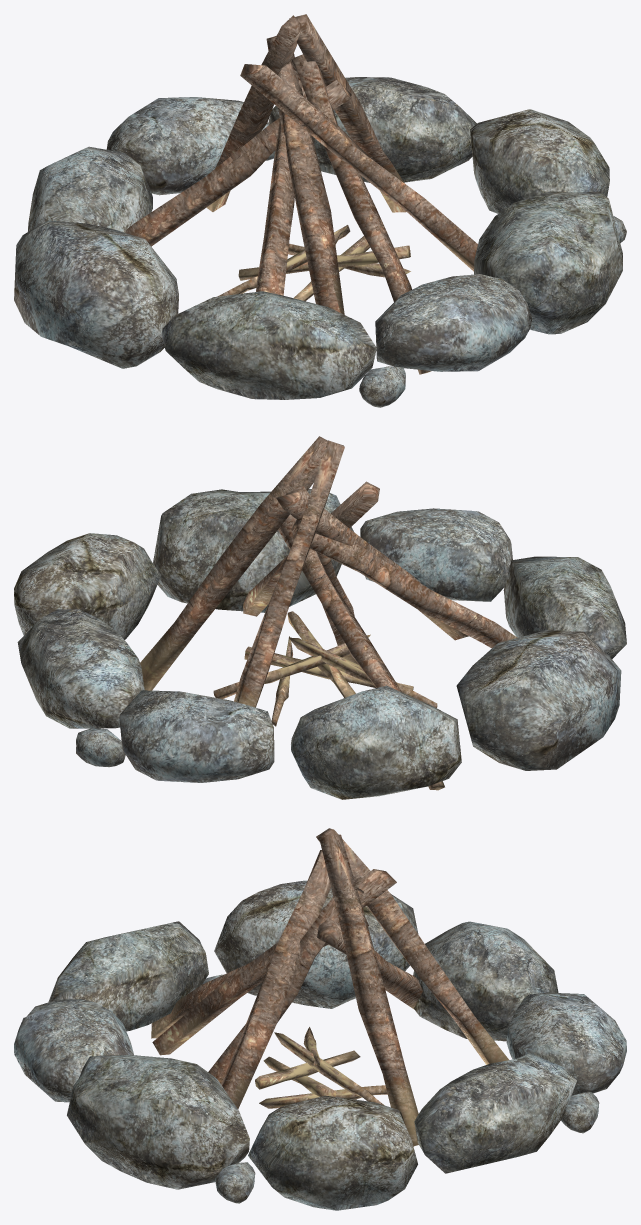
Rendered from SM_Campfire.FBX.
3 views of the same model, one above another, from view 1: azimuth 30°, elevation 25°; view 2: azimuth 150°, elevation 25°; view 3: azimuth 270°, elevation 25° (orthographic). The views are drawn at different scales.
Parts seen in each view (by area): view 1: SM_Campfire; view 2: SM_Campfire; view 3: SM_Campfire.
Part boxes in pixels (box(x1,y1,x2,y2)): SM_Campfire: box(14, 14, 626, 407); SM_Campfire: box(14, 436, 626, 799); SM_Campfire: box(14, 828, 626, 1210).
Size of what is drawn, in the model's own units: 71.45 by 69.93 by 37.83.
